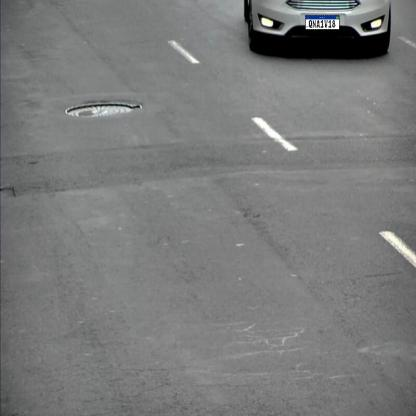PlacaM: (305, 15, 340, 30)
